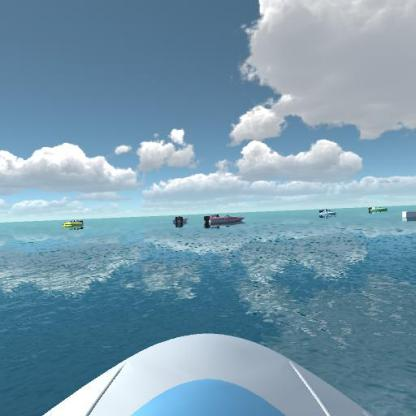usv0: (367, 203, 391, 217)
usv1: (172, 211, 191, 229), (314, 206, 338, 220)
usv2: (60, 216, 86, 231)
usv3: (202, 209, 246, 230)
